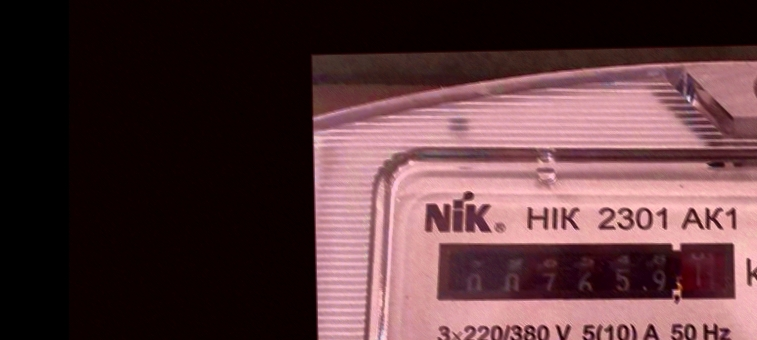0: (464, 269, 483, 296), (503, 269, 522, 295)
1: (691, 259, 706, 291)
5: (611, 265, 634, 293)
6: (576, 269, 595, 293)
7: (539, 270, 559, 295)
9: (649, 266, 668, 294)
screen: (427, 225, 747, 322)
